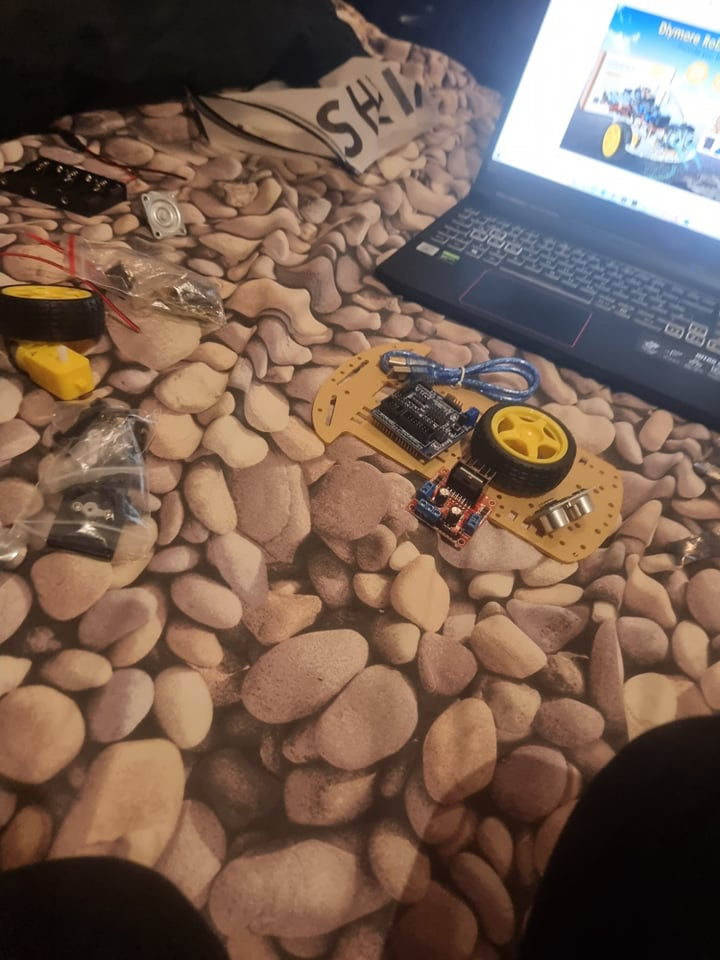5V EXPANSION: (368, 377, 478, 463)
BATTERY BOX: (8, 142, 127, 218)
MOTOR: (406, 462, 497, 551)
SENSOR: (533, 491, 597, 535)
